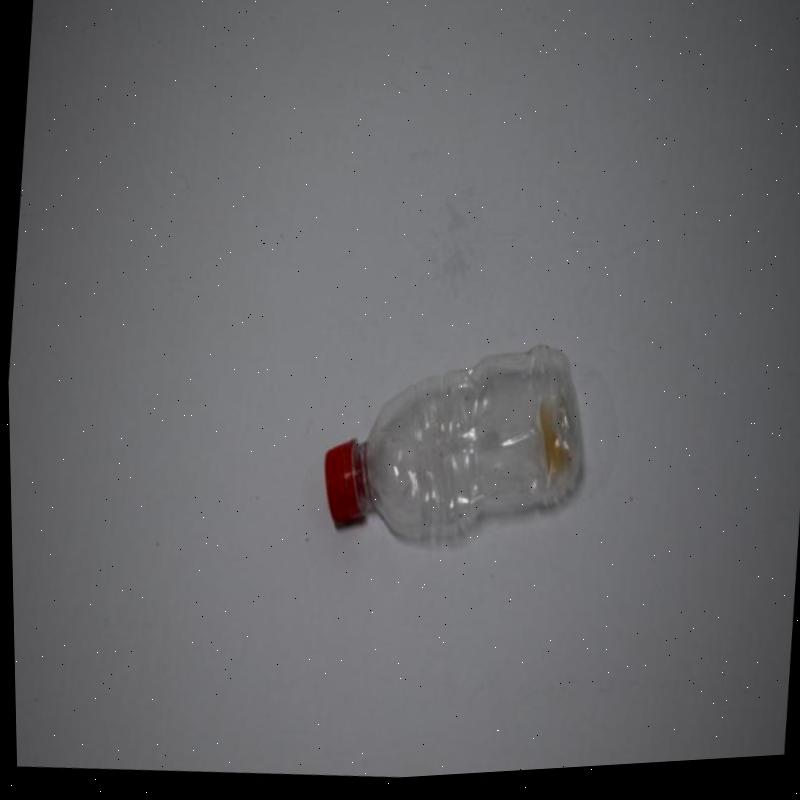botella: (314, 331, 595, 578)
